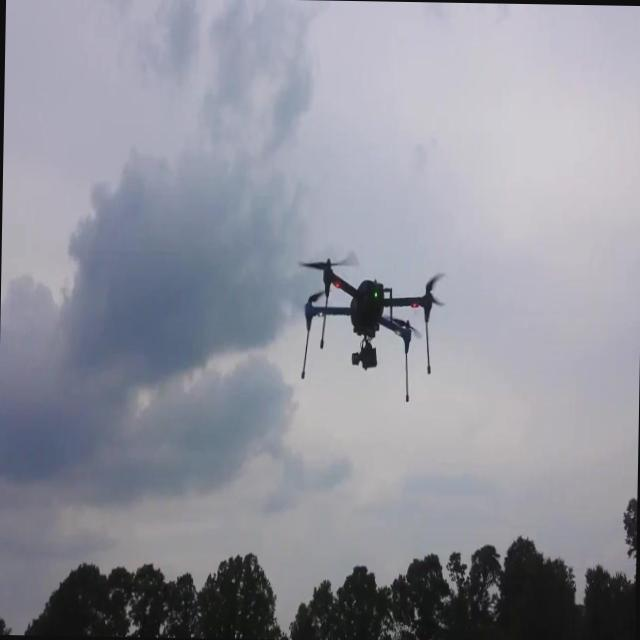drone: (298, 250, 442, 404)
